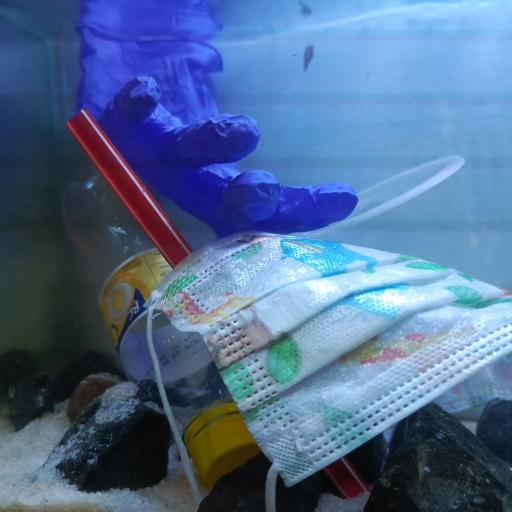bottle_cap: (193, 414, 261, 484)
glove: (75, 23, 360, 232)
mask: (141, 232, 512, 489)
plastic_bottle: (60, 172, 262, 485)
plastic_cup: (297, 155, 485, 280)
plastic_straw: (68, 106, 366, 500)
